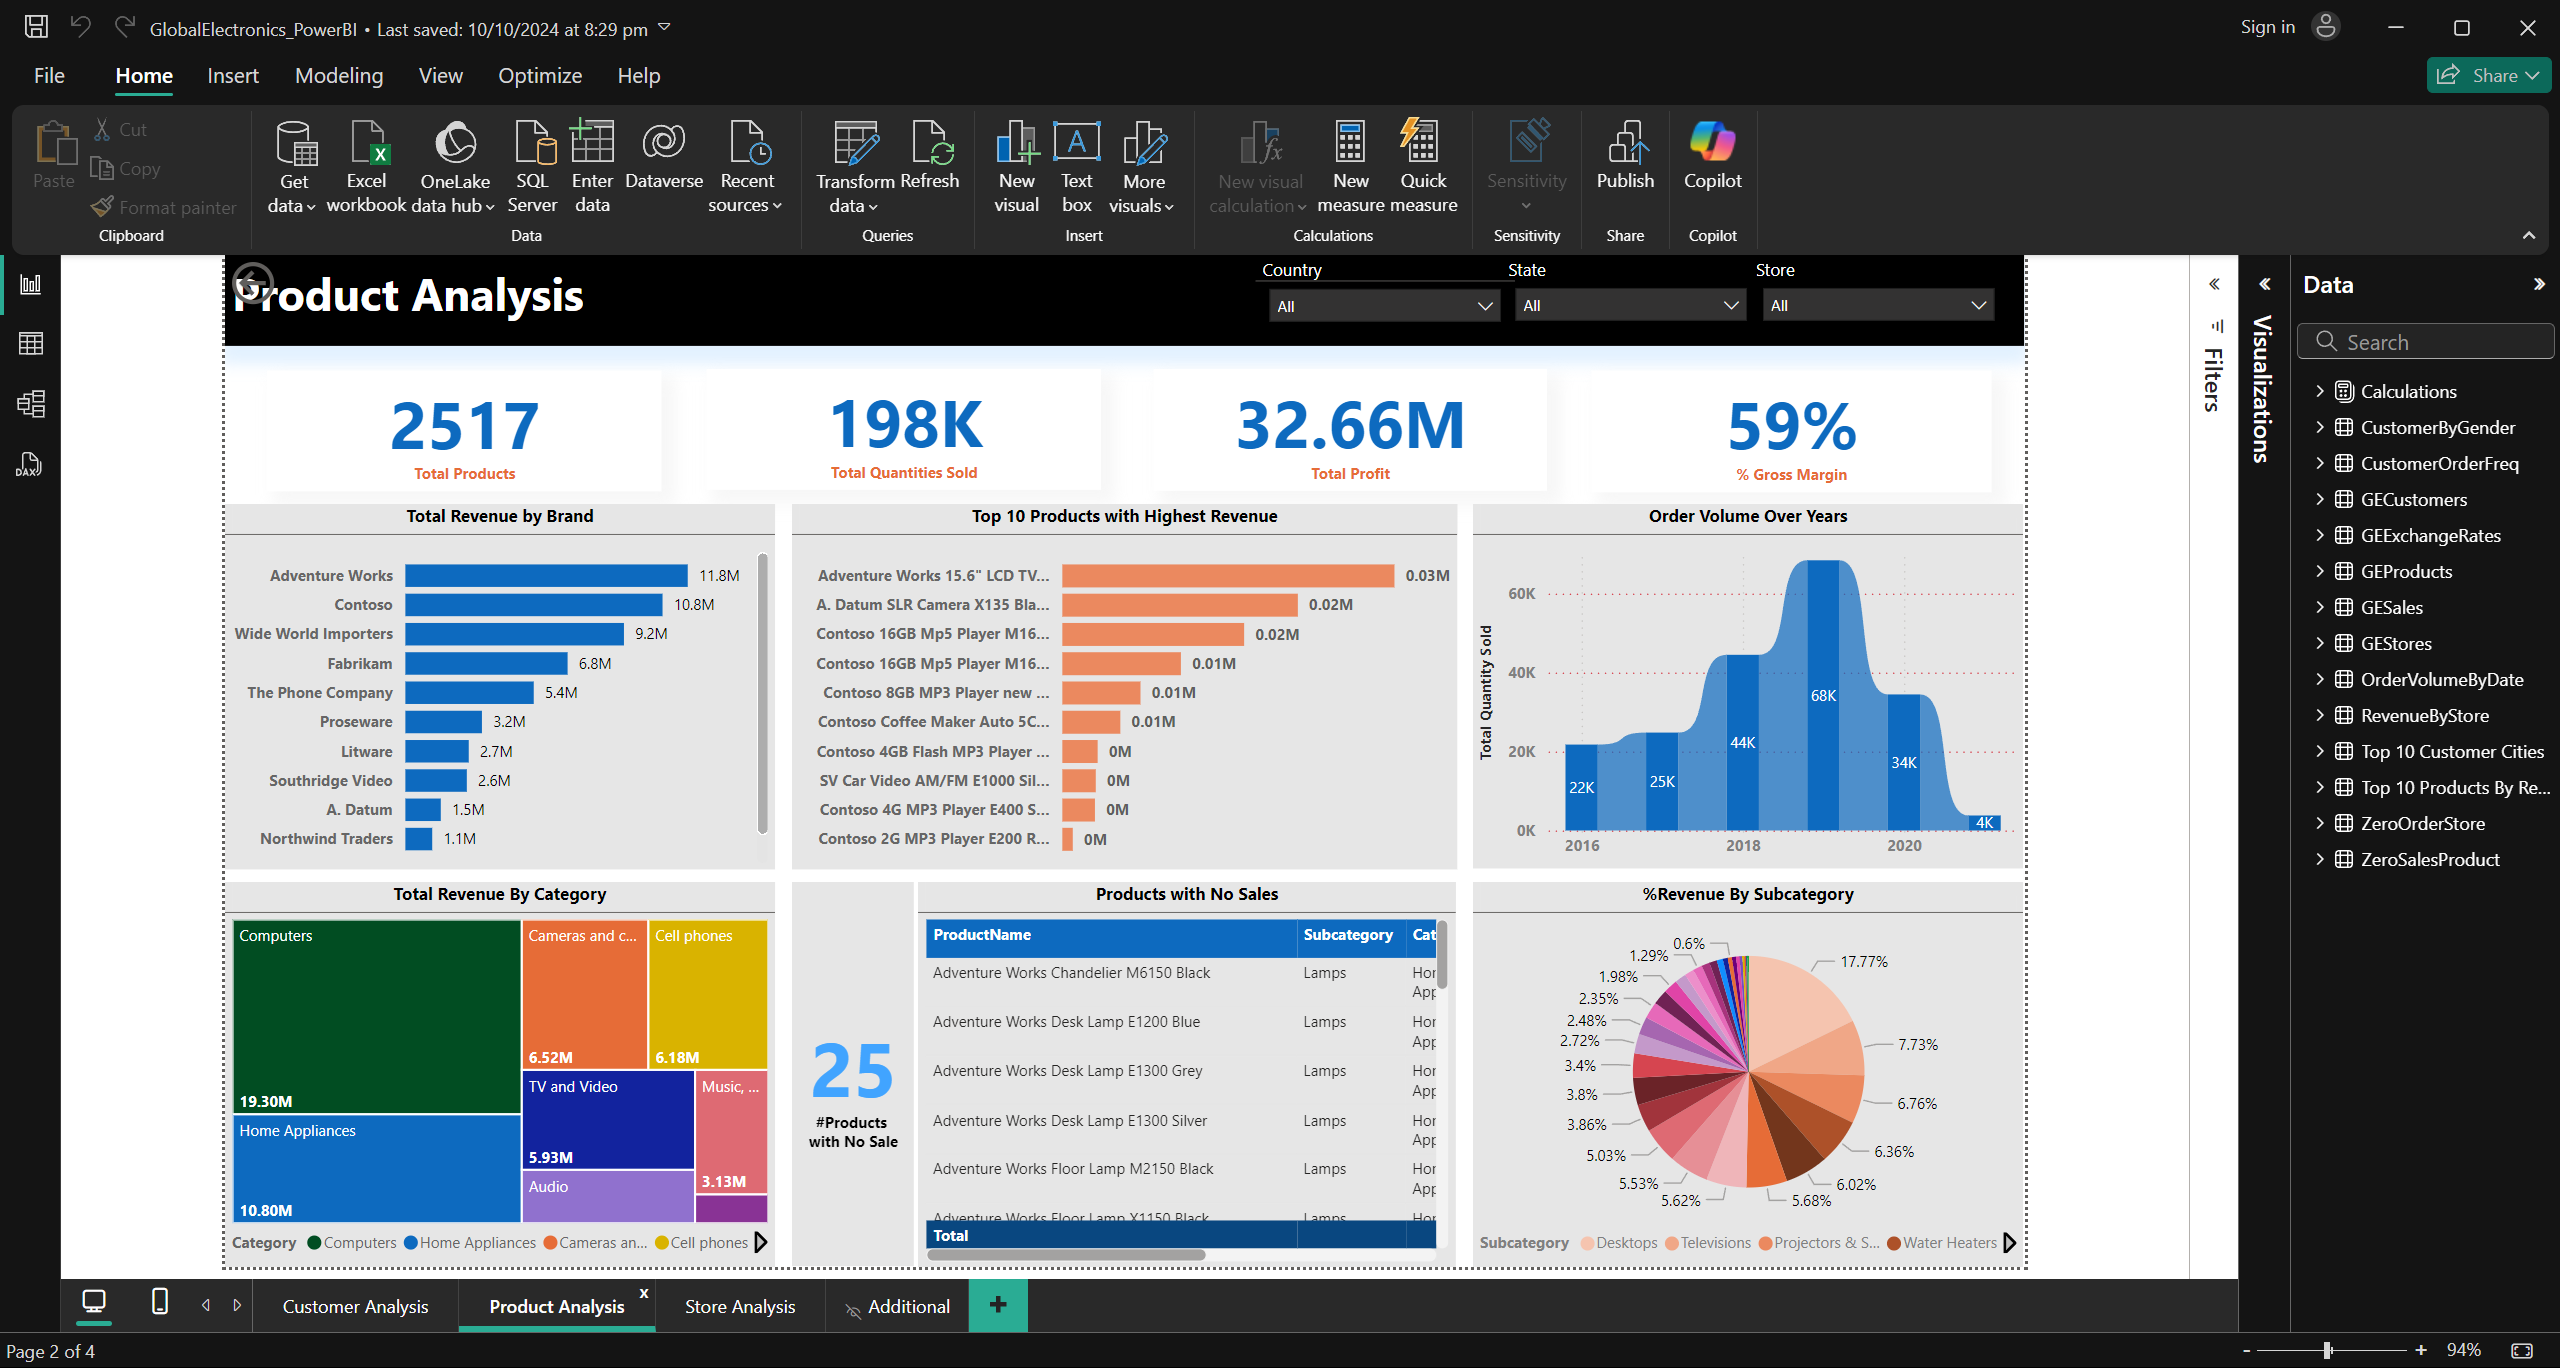

What the dashboard file says about the page in this screenshot:
{"tool":"powerbi","page":{"name":"Product Analysis","canvas":[1280,720],"ordinal":1},"visuals":[{"type":"textbox","box":[0,0,1279.7,64.5],"z":0},{"type":"card","fields":{"Values":["CustomerAgeGroup.%Gross Margin"]},"box":[971.7,82.2,284.4,86.6],"z":1000},{"type":"treemap","title":"Total Revenue By Category","fields":{"Group":["GEProducts.Category"],"Values":["Calculations.Total Revenue"]},"box":[0,446.1,391.3,273.8],"z":2000},{"type":"group","id":"g1","title":"Group 2","box":[29.6,81,910.2,86.6],"z":3000},{"type":"slicer","title":"Country","fields":{"Values":["GECustomers.Cust_Country"]},"box":[732.6,1.7,184.6,57.3],"z":4000},{"type":"slicer","title":"State","fields":{"Values":["GECustomers.Cust_State"]},"box":[908.2,2.5,184.6,57.4],"z":5000},{"type":"slicer","title":"Store","fields":{"Values":["GEStores.StoreKey"]},"box":[1083.9,2.7,184.6,57.4],"z":6000},{"type":"card","fields":{"Values":["CountNonNull(GEProducts.ProductKey)"]},"box":[29.6,81.9,280.9,85.7],"z":7000,"group":"g1"},{"type":"pieChart","title":"%Revenue By Subcategory","fields":{"Category":["GEProducts.Subcategory"],"Y":["Calculations.Total Revenue"]},"box":[888.4,445.9,391.6,274.3],"z":7000},{"type":"card","fields":{"Values":["Sum(GESales.Quantity)"]},"box":[342.3,81,280.9,85.7],"z":8000,"group":"g1"},{"type":"barChart","title":"Top 10 Products with Highest Revenue","fields":{"Category":["Top 10 Products.ProductName"],"Y":["Calculations.Total Revenue"]},"box":[403.7,177.6,473.5,259.7],"z":8000},{"type":"actionButton","box":[0,0,100,40],"z":9000},{"type":"card","fields":{"Values":["CustomerAgeGroup.Total Profit"]},"box":[659.8,81,280,86.6],"z":9000,"group":"g1"},{"type":"barChart","fields":{"Y":["Calculations.Total Revenue"],"Category":["GEProducts.Brand"]},"box":[0,177.6,391.3,259.7],"z":10000},{"type":"tableEx","title":"Products with No Sales","fields":{"Values":["ZeroSalesProduct.ProductName","ZeroSalesProduct.Subcategory","ZeroSalesProduct.Category","ZeroSalesProduct.Brand","Sum(ZeroSalesProduct.UnitCostUSD)","Sum(ZeroSalesProduct.UnitPriceUSD)"]},"box":[493.7,445.9,382.6,274.3],"z":10000,"group":"g2"},{"type":"group","id":"g2","title":"Group 1","box":[403.7,445.9,472.7,274.3],"z":11000},{"type":"ribbonChart","title":"Order Volume Over Years","fields":{"Y":["Sum(Query1.sum(Quantity))"],"Category":["Query1.OrderDate.Variation.Date Hierarchy.Year","Query1.OrderDate.Variation.Date Hierarchy.Quarter"]},"box":[888.4,177.7,391.6,259.6],"z":12000},{"type":"card","fields":{"Values":["CountNonNull(ZeroSalesProduct.ProductKey)"]},"box":[403.7,445.9,86.7,273.4],"z":13000,"group":"g2"}]}

Visuals, with their boxes on the page's 1280x720 design canvas (x1, y1, x2, y2). These are canvas units, not pixel positions in the 2560x1368 screenshot, which may show the page scaled, cropped or inside an application window:
textbox: [left=0, top=0, right=1280, bottom=64]
card - CustomerAgeGroup.%Gross Margin: [left=972, top=82, right=1256, bottom=169]
"Total Revenue By Category" treemap: [left=0, top=446, right=391, bottom=720]
"Group 2" group: [left=30, top=81, right=940, bottom=168]
"Country" slicer: [left=733, top=2, right=917, bottom=59]
"State" slicer: [left=908, top=2, right=1093, bottom=60]
"Store" slicer: [left=1084, top=3, right=1268, bottom=60]
card - CountNonNull(GEProducts.ProductKey): [left=30, top=82, right=310, bottom=168]
"%Revenue By Subcategory" pieChart: [left=888, top=446, right=1280, bottom=720]
card - Sum(GESales.Quantity): [left=342, top=81, right=623, bottom=167]
"Top 10 Products with Highest Revenue" barChart: [left=404, top=178, right=877, bottom=437]
actionButton: [left=0, top=0, right=100, bottom=40]
card - CustomerAgeGroup.Total Profit: [left=660, top=81, right=940, bottom=168]
barChart - Calculations.Total Revenue x GEProducts.Brand: [left=0, top=178, right=391, bottom=437]
"Products with No Sales" tableEx: [left=494, top=446, right=876, bottom=720]
"Group 1" group: [left=404, top=446, right=876, bottom=720]
"Order Volume Over Years" ribbonChart: [left=888, top=178, right=1280, bottom=437]
card - CountNonNull(ZeroSalesProduct.ProductKey): [left=404, top=446, right=490, bottom=719]
